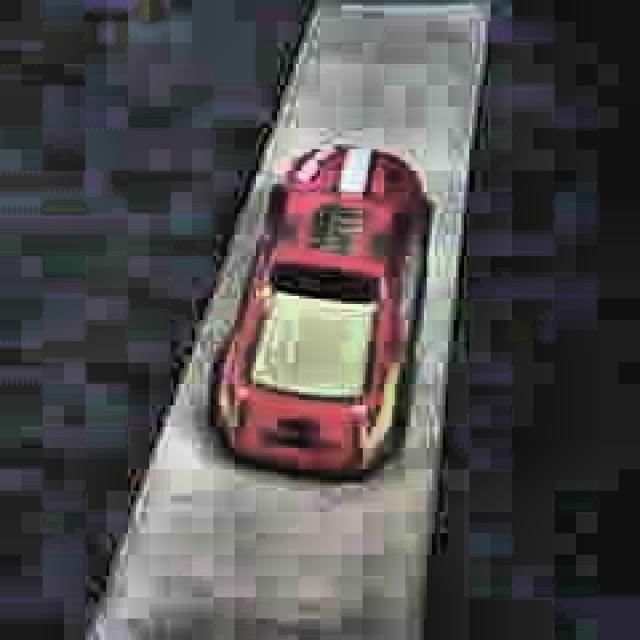car: (207, 142, 436, 487)
